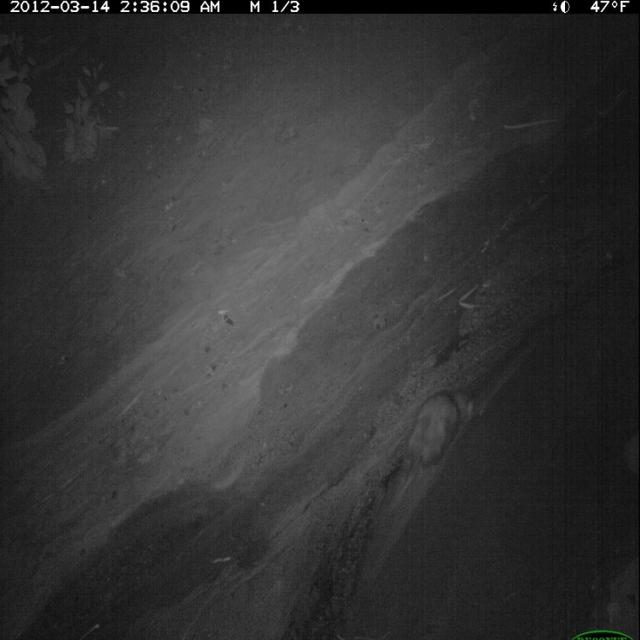opossum: (395, 385, 466, 509)
